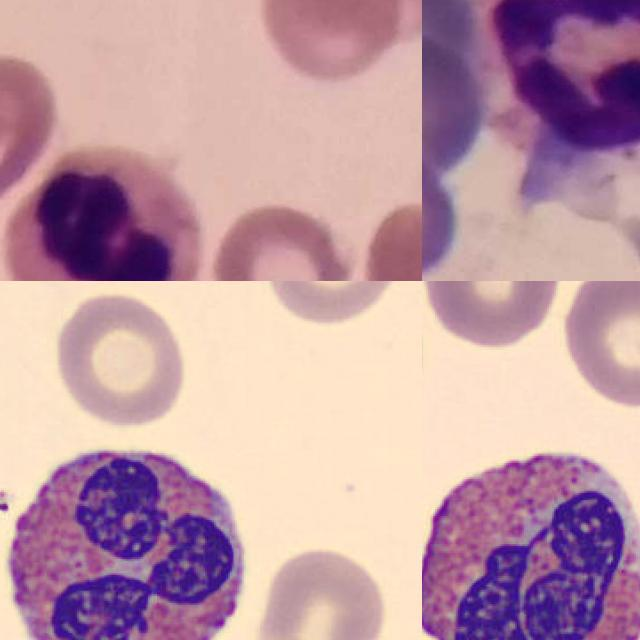Eosinophil: (0, 426, 258, 640), (422, 429, 640, 640)
Neutrophil: (479, 0, 640, 166), (6, 148, 201, 281)
RBC: (49, 288, 189, 431), (254, 541, 391, 640), (557, 281, 640, 410), (422, 281, 564, 350), (260, 281, 409, 331)
